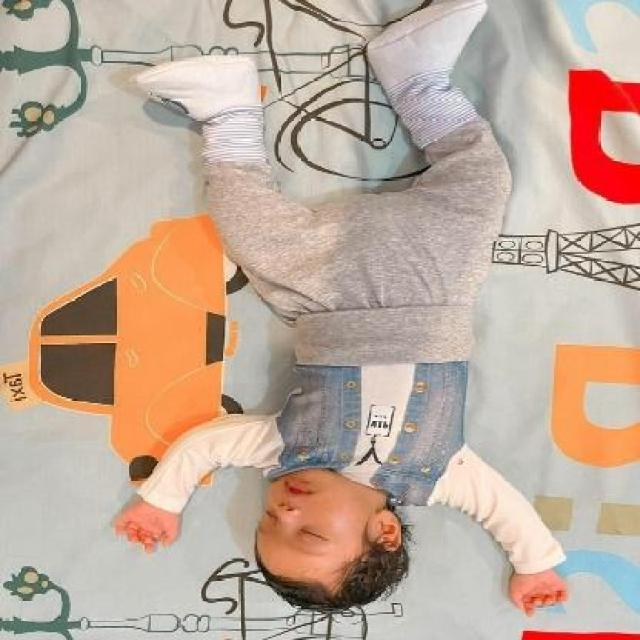baby: (112, 1, 568, 626)
